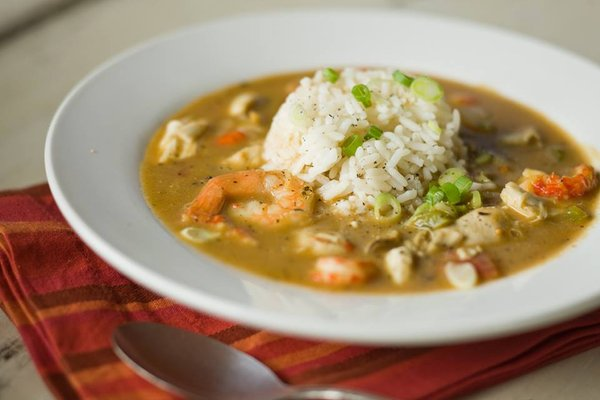sushi: (42, 3, 596, 352)
